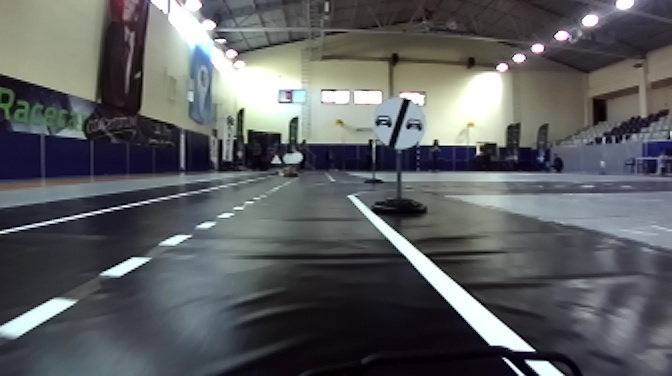sollama_serbest: (372, 96, 426, 150)
